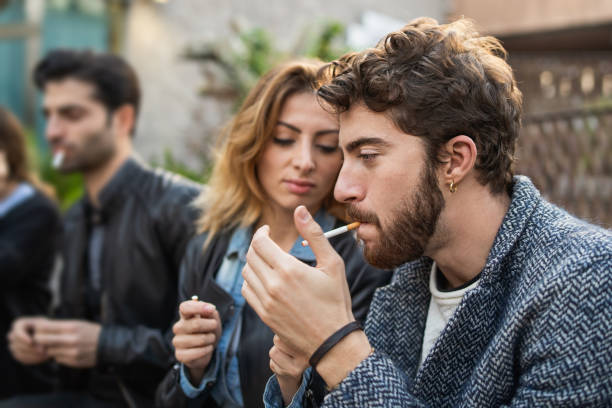cigarette: (301, 220, 359, 247), (51, 148, 66, 170), (191, 294, 201, 319)
